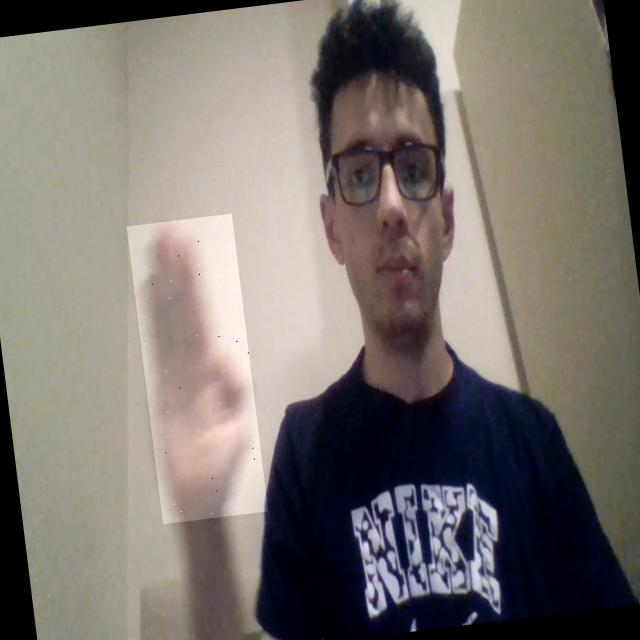hello: (126, 213, 268, 524)
